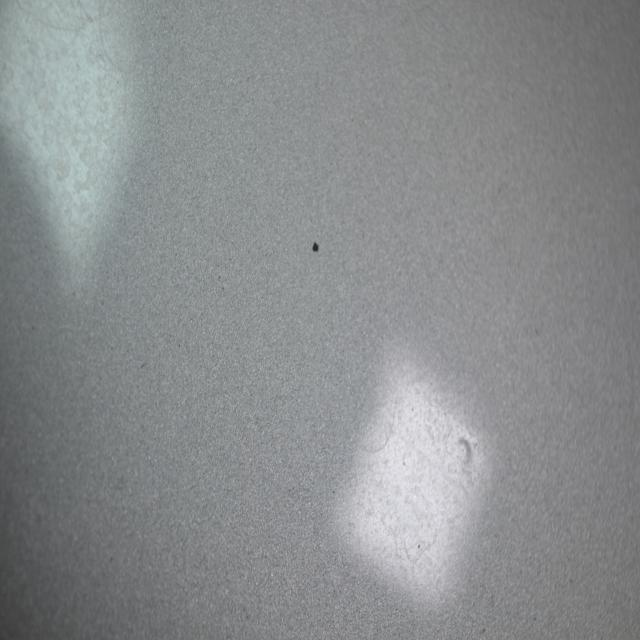dirt: (310, 236, 320, 258)
water marks: (0, 1, 119, 258), (358, 380, 484, 610)
